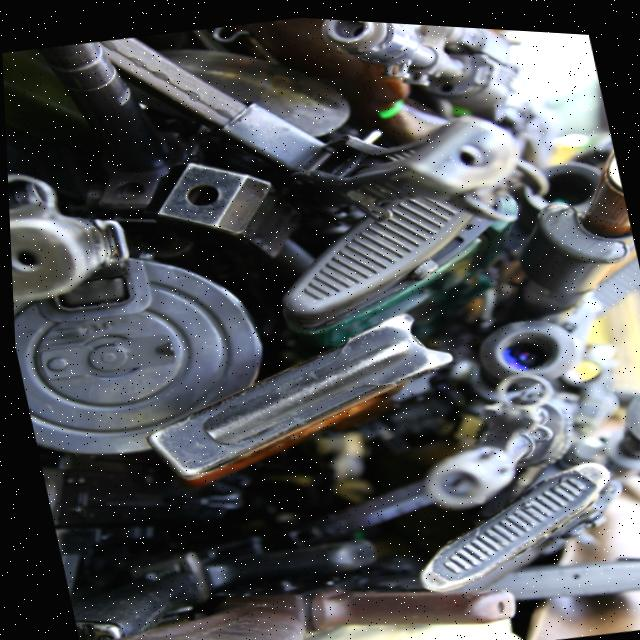firearm: (392, 357, 588, 514), (313, 15, 527, 127), (5, 155, 137, 310)
